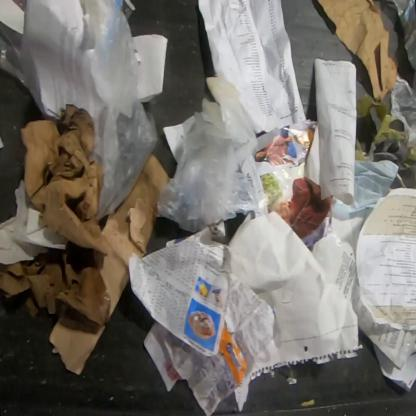cardboard: (48, 151, 169, 375), (20, 104, 104, 251)
soft_plastic: (84, 0, 158, 219), (156, 78, 258, 232), (390, 1, 416, 137), (21, 36, 43, 114), (0, 20, 26, 85)
